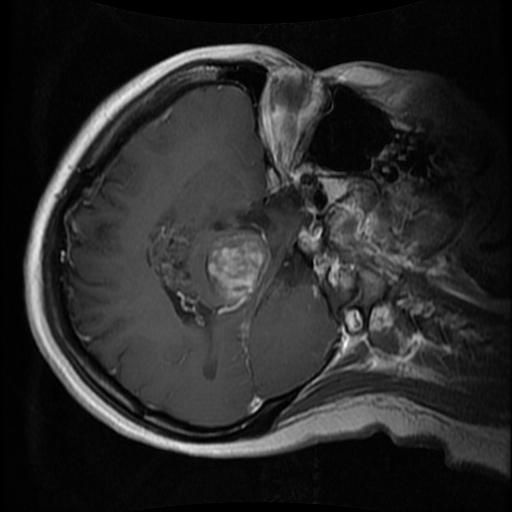glioma: (148, 206, 273, 332)
